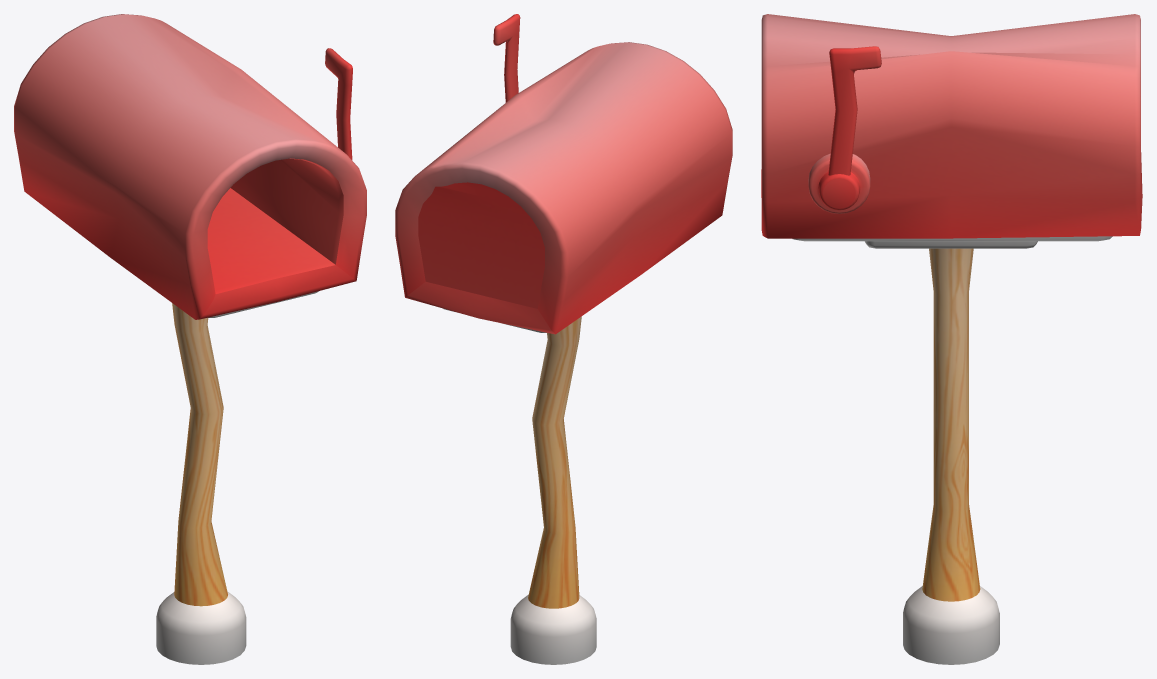
The model's file is Mailbox_A_red.fbx.
The picture shows the model from 3 angles, left to right: view 1: azimuth 30°, elevation 25°; view 2: azimuth 150°, elevation 25°; view 3: azimuth 270°, elevation 25°; orthographic projection. The views are drawn at different scales.
Visible parts, largest first — view 1: MailboxA_red; view 2: MailboxA_red; view 3: MailboxA_red.
Part boxes in pixels (<box>): MailboxA_red: <box>14,14,366,664</box>; MailboxA_red: <box>395,14,732,664</box>; MailboxA_red: <box>761,14,1142,664</box>.
Size of the model in its own units: 1.07 by 1.64 by 3.07.
